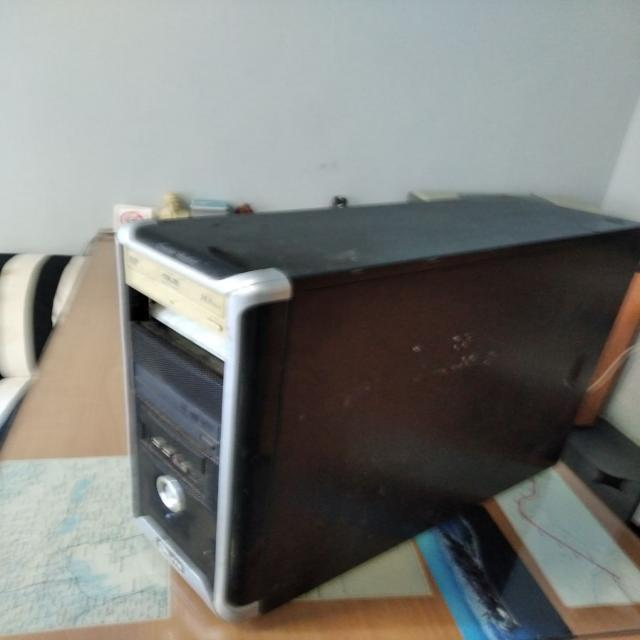Desktop-PC: (116, 195, 632, 620)
